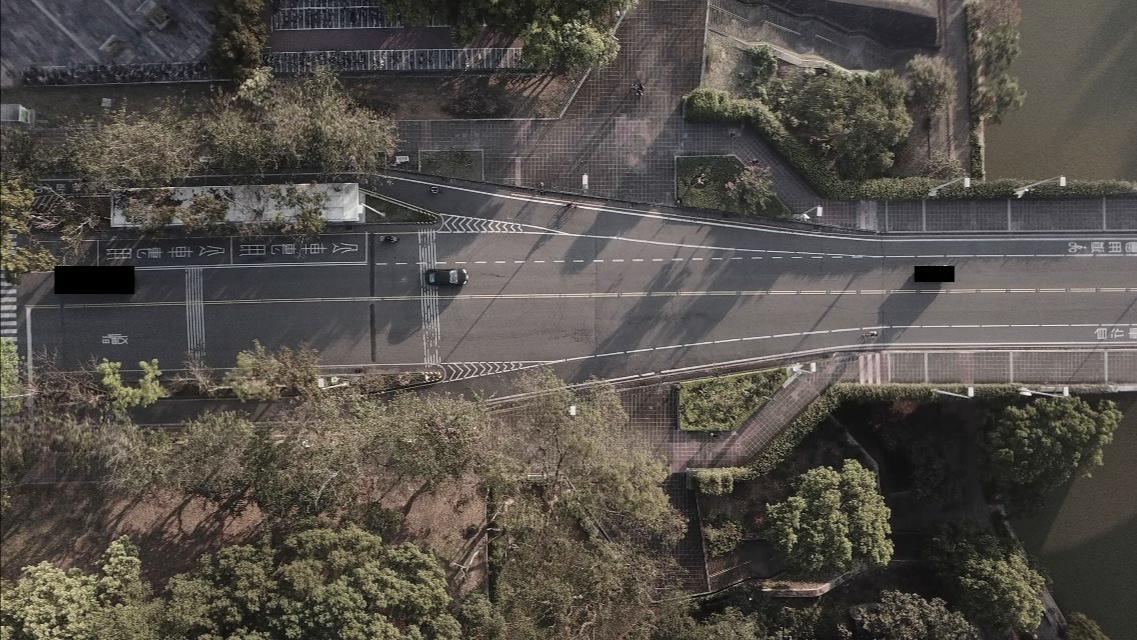vehicle: (424, 268, 468, 287)
